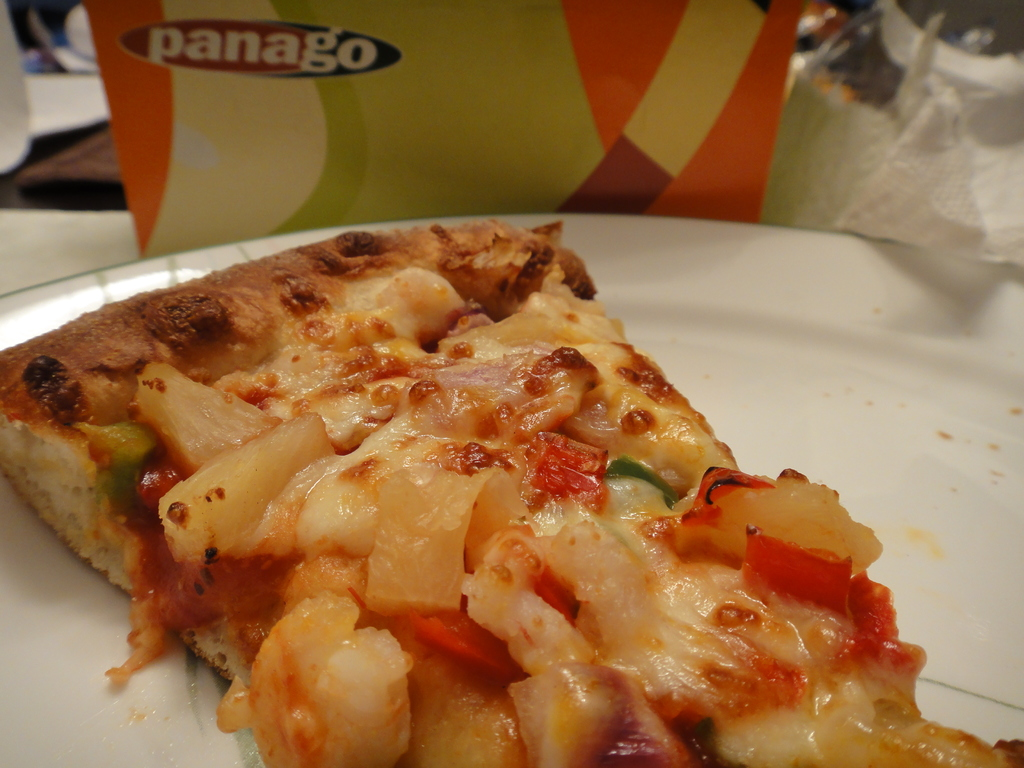pizza: (12, 234, 920, 765)
